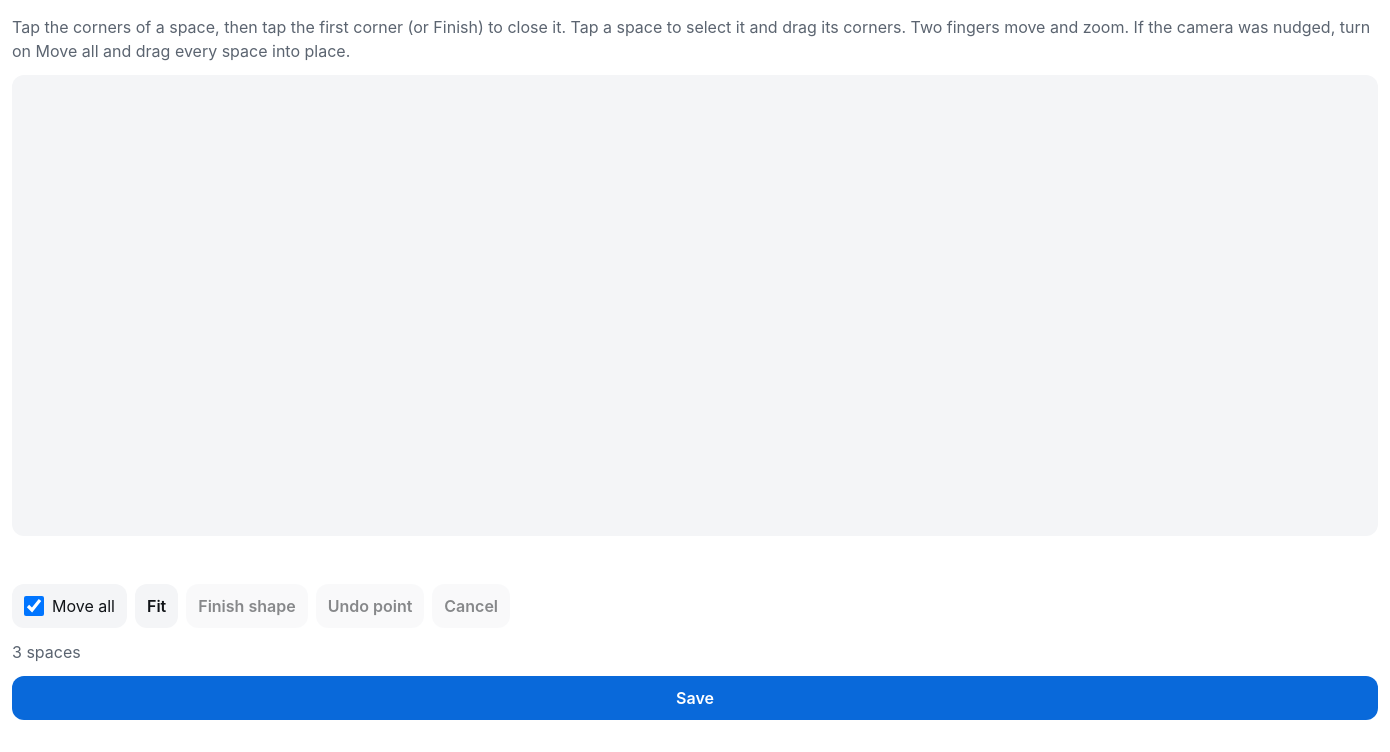
Test: SlotEditor › an invalid layout is not sent
(page scrolled)
Click the button "Save" at (695, 698), box x1=12 y1=676 x2=1378 y2=720
(page scrolled)
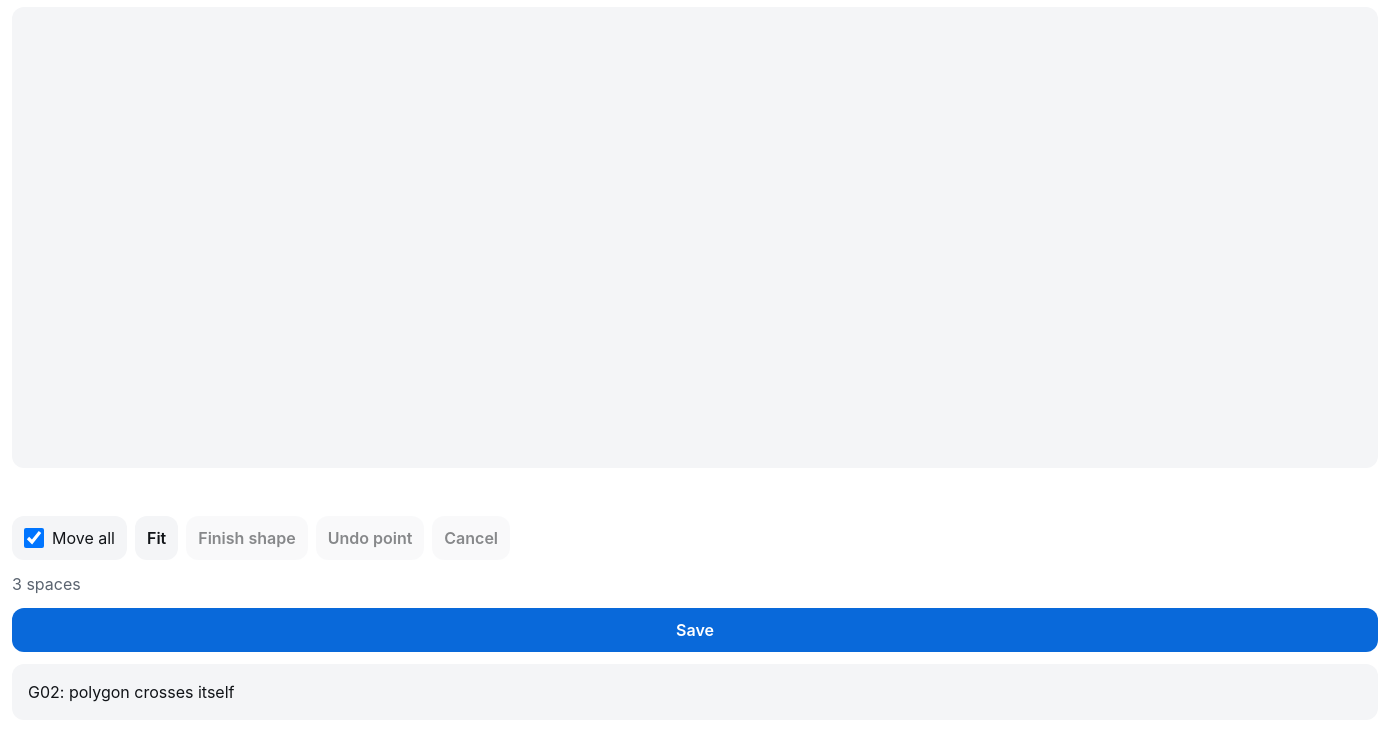
Now the message reads "G02: polygon crosses itself", box x1=28 y1=682 x2=234 y2=702
